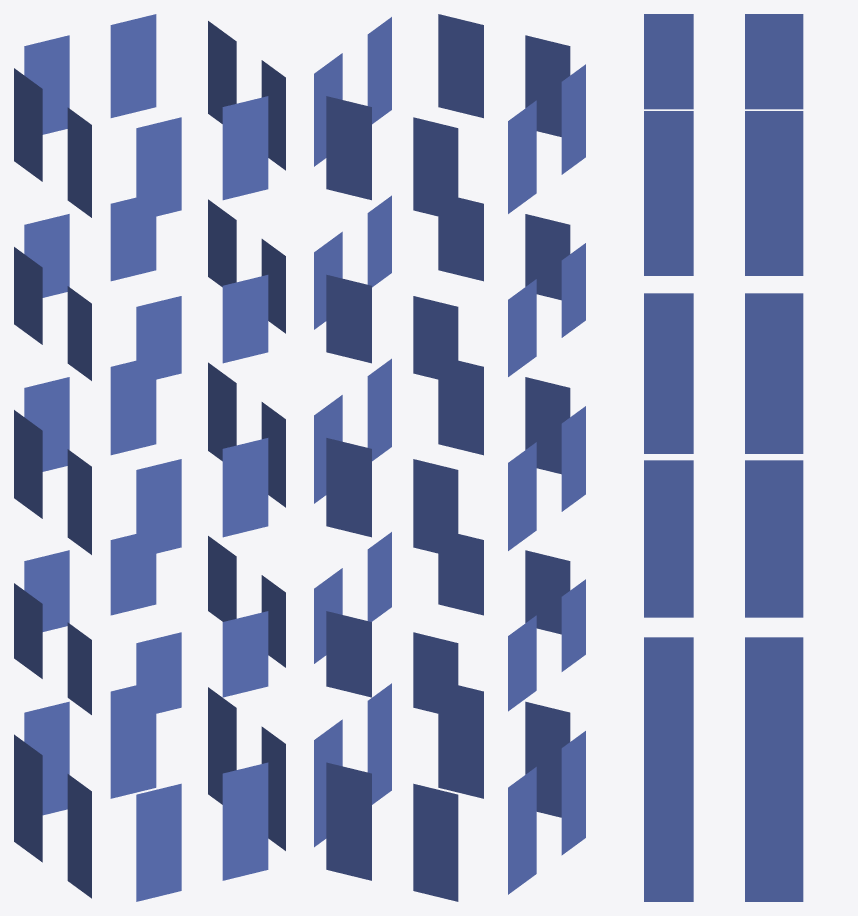
The model's file is cube.254_lev1_lev3.glb.
3 views of the same model, side by side, from view 1: azimuth 30°, elevation 25°; view 2: azimuth 150°, elevation 25°; view 3: azimuth 270°, elevation 25° (orthographic). The views are drawn at different scales.
Visible parts, largest first — view 1: cube.254_lev1_lev3; view 2: cube.254_lev1_lev3; view 3: cube.254_lev1_lev3.
Part boxes in pixels (x1,y1,x2,y2): cube.254_lev1_lev3: (14,14,285,901); cube.254_lev1_lev3: (314,14,585,901); cube.254_lev1_lev3: (644,14,803,901).
Size of the model in its own units: 7.86 by 29.93 by 7.86.
